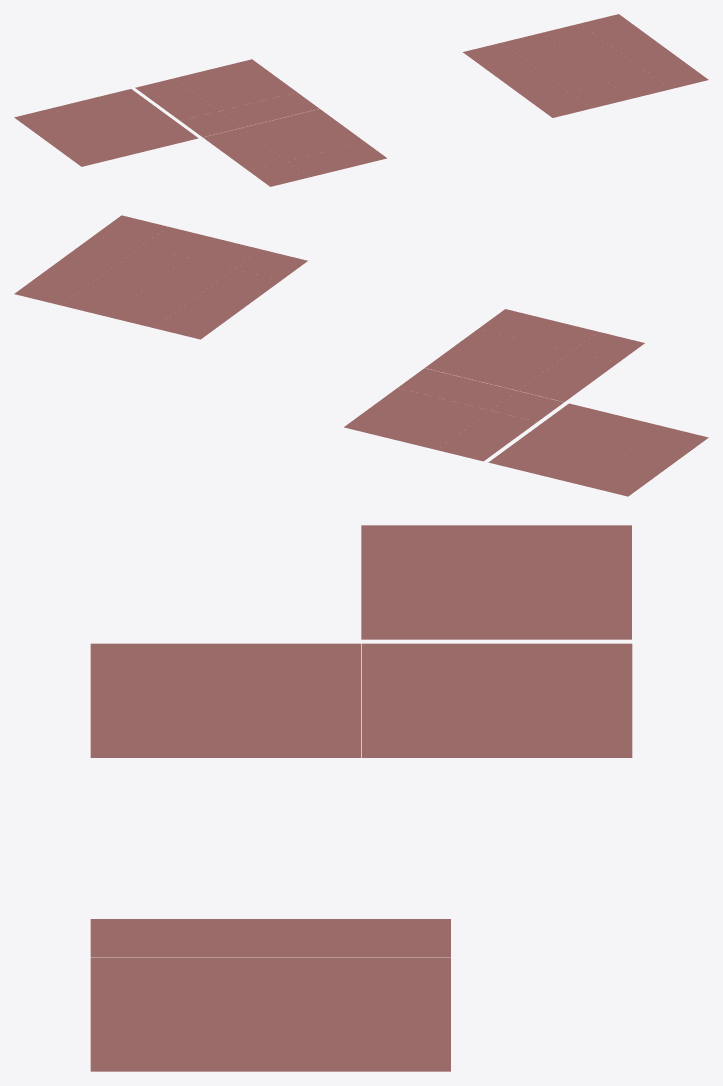
File: pisogris.fbx
3 views of the same model, one above another, from view 1: azimuth 30°, elevation 25°; view 2: azimuth 150°, elevation 25°; view 3: azimuth 270°, elevation 25° (orthographic). The views are drawn at different scales.
Parts seen in each view (by area): view 1: Plane.030; view 2: Plane.030; view 3: Plane.030.
Boxes of the visible parts, x1,y1,x2,y2 form: Plane.030: (14,14,708,186); Plane.030: (14,215,708,496); Plane.030: (90,525,632,1071).
Bounding box in the file's own units: 7229 × 0.000494 × 3031.
